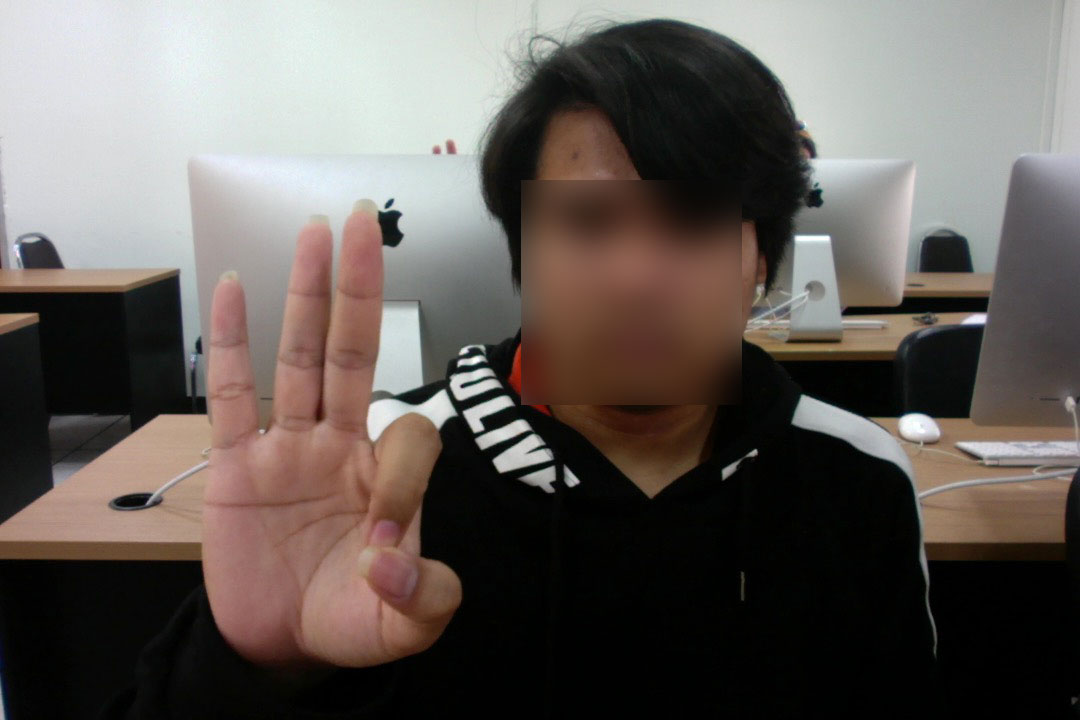for: (186, 168, 484, 714)
